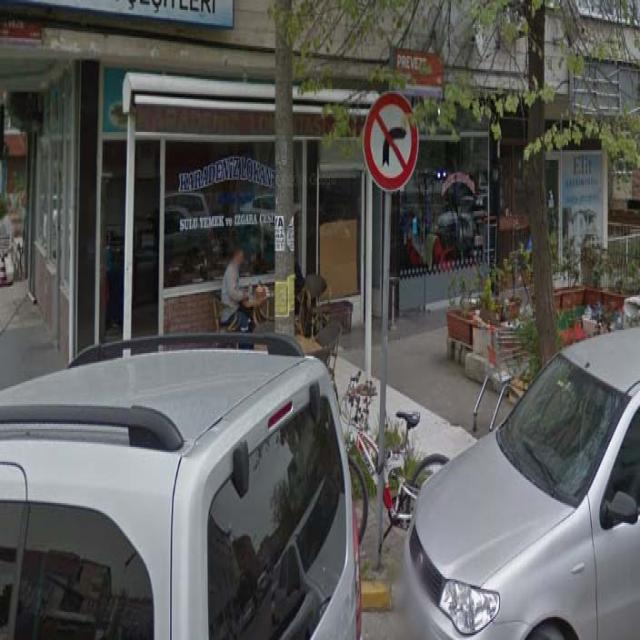sagadonulmez: (364, 91, 420, 191)
